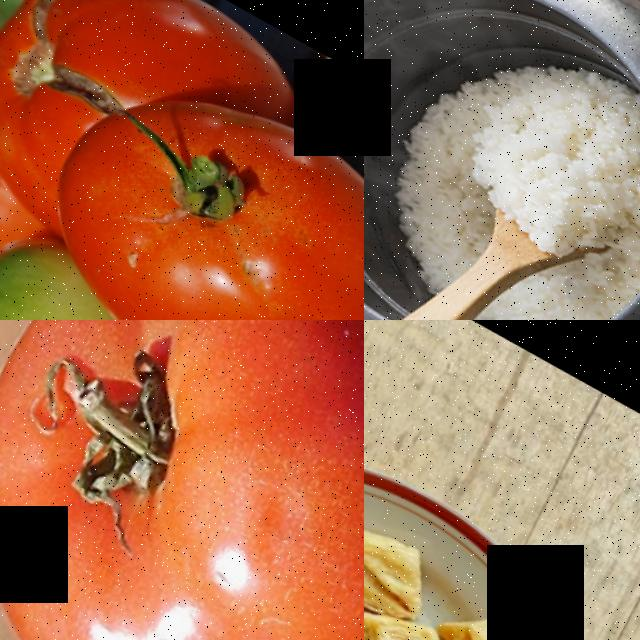tofu: (364, 484, 450, 626), (413, 585, 574, 640)
tomato: (0, 320, 364, 640), (0, 4, 364, 320)
white rice: (459, 43, 640, 272), (377, 96, 528, 260), (514, 262, 582, 320)
